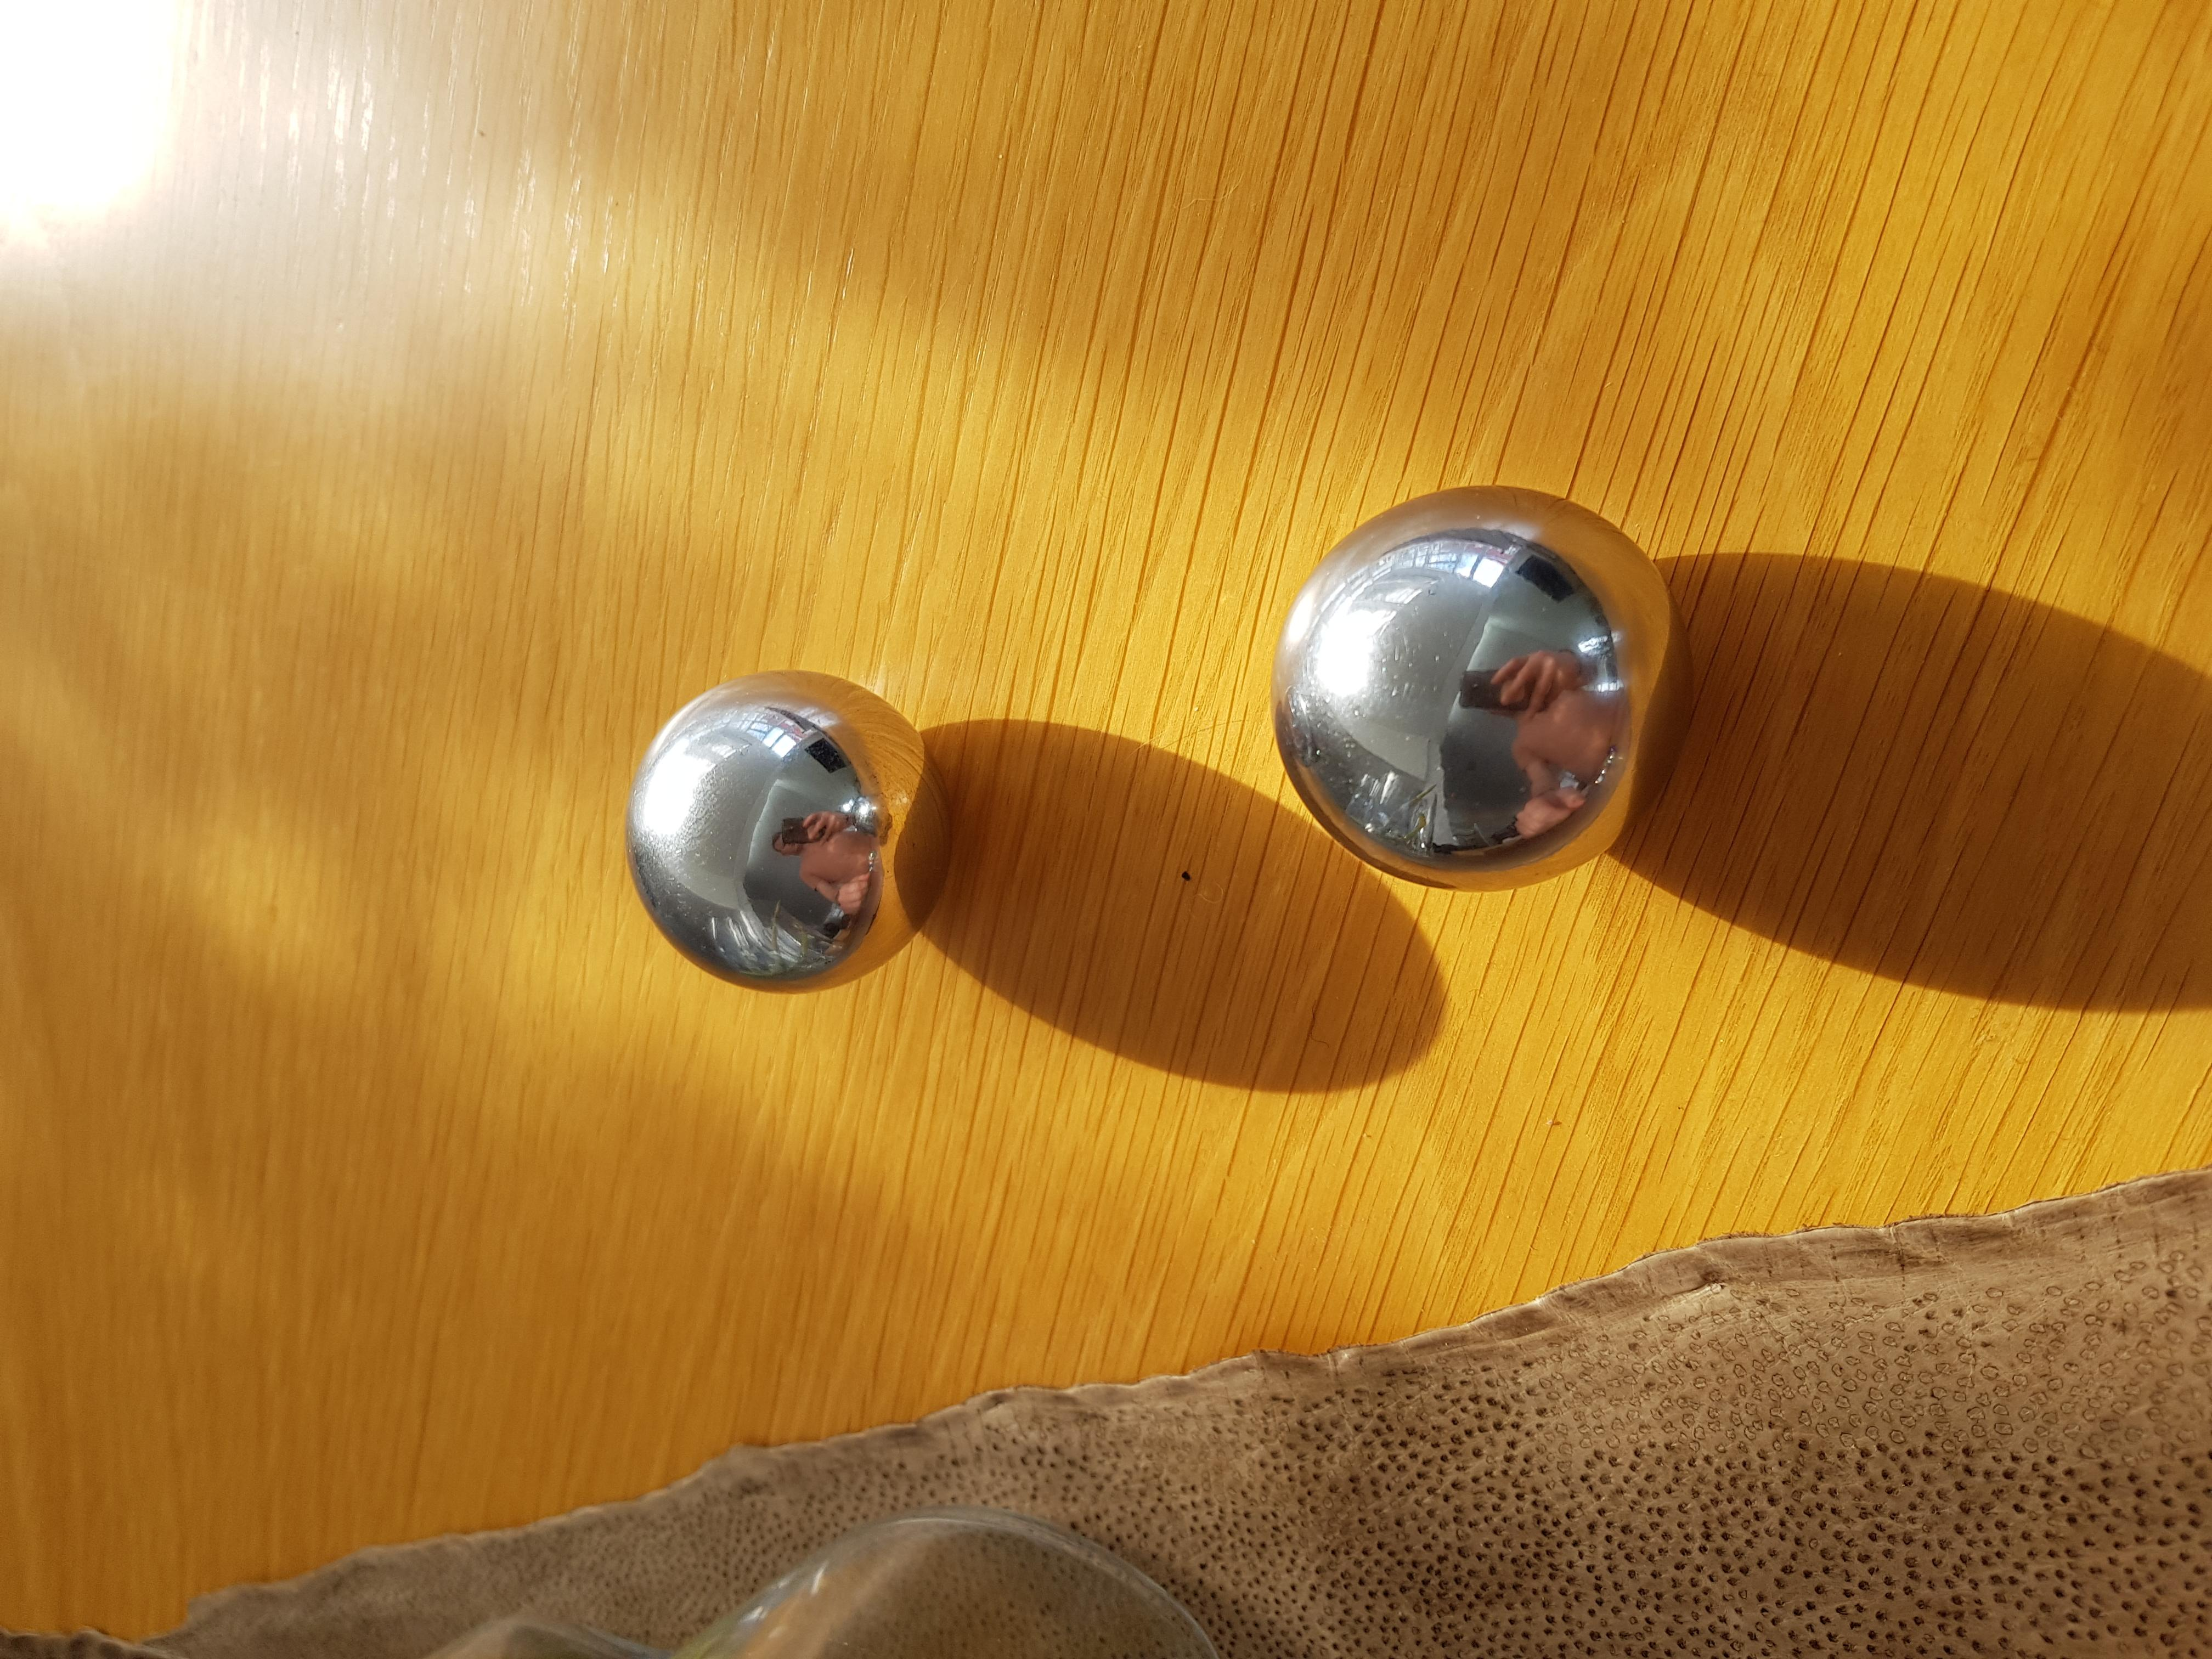sphere: (1254, 476, 1674, 906), (632, 666, 946, 988)
